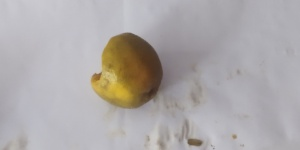BAD: (91, 31, 165, 111)
